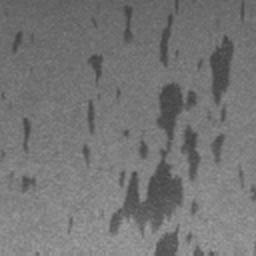Red iron sheet: (109, 0, 234, 256), (84, 4, 134, 87), (82, 100, 96, 166), (238, 165, 256, 202), (22, 115, 32, 151), (22, 174, 36, 193), (12, 31, 23, 54), (239, 0, 246, 22), (67, 216, 73, 234)
